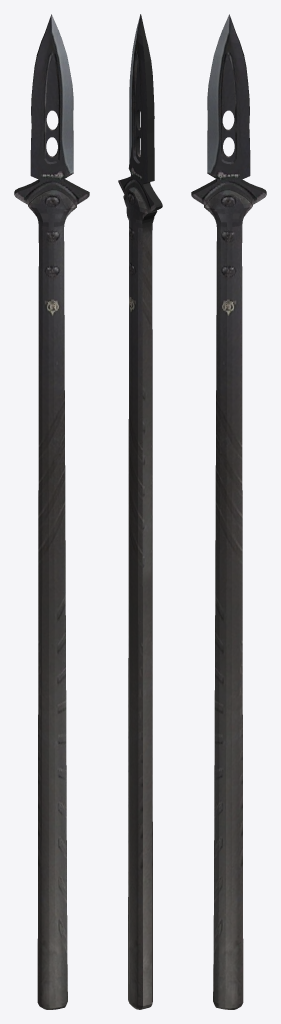
Rendered from reapr_11003_survival_spear_model.fbx.
3 renders of one model, left to right at view 1: azimuth 90°, elevation 25°; view 2: azimuth 210°, elevation 25°; view 3: azimuth 270°, elevation 25°, orthographic.
Visible parts, largest first — view 1: handle; view 2: handle; view 3: handle.
Part boxes in pixels (x1,y1,x2,y2): handle: (14, 14, 89, 1009); handle: (118, 14, 162, 1009); handle: (191, 14, 266, 1009).
Size of the model in its own units: 0.0153 by 0.7847 by 0.0537.
